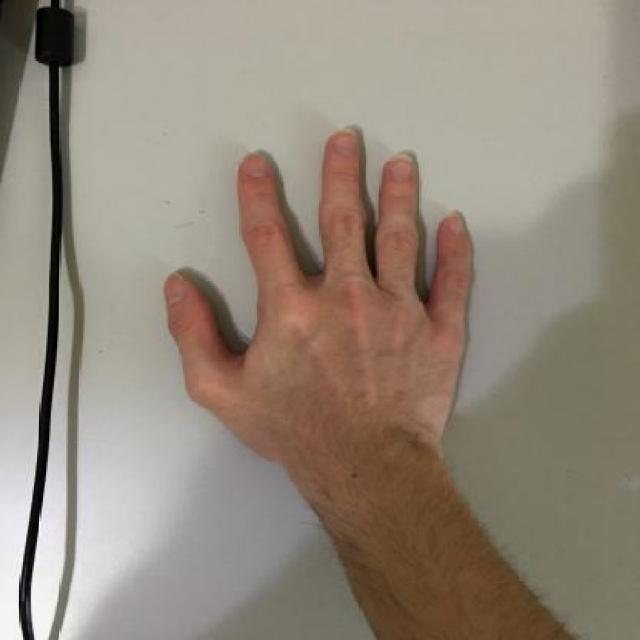no_glove: (143, 120, 494, 508)
